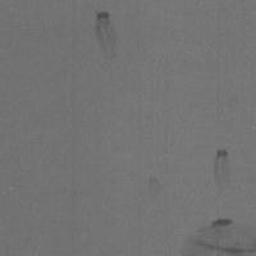Water spot: (194, 234, 256, 254), (96, 11, 113, 56), (212, 218, 232, 227), (216, 149, 228, 158), (149, 177, 160, 186)
